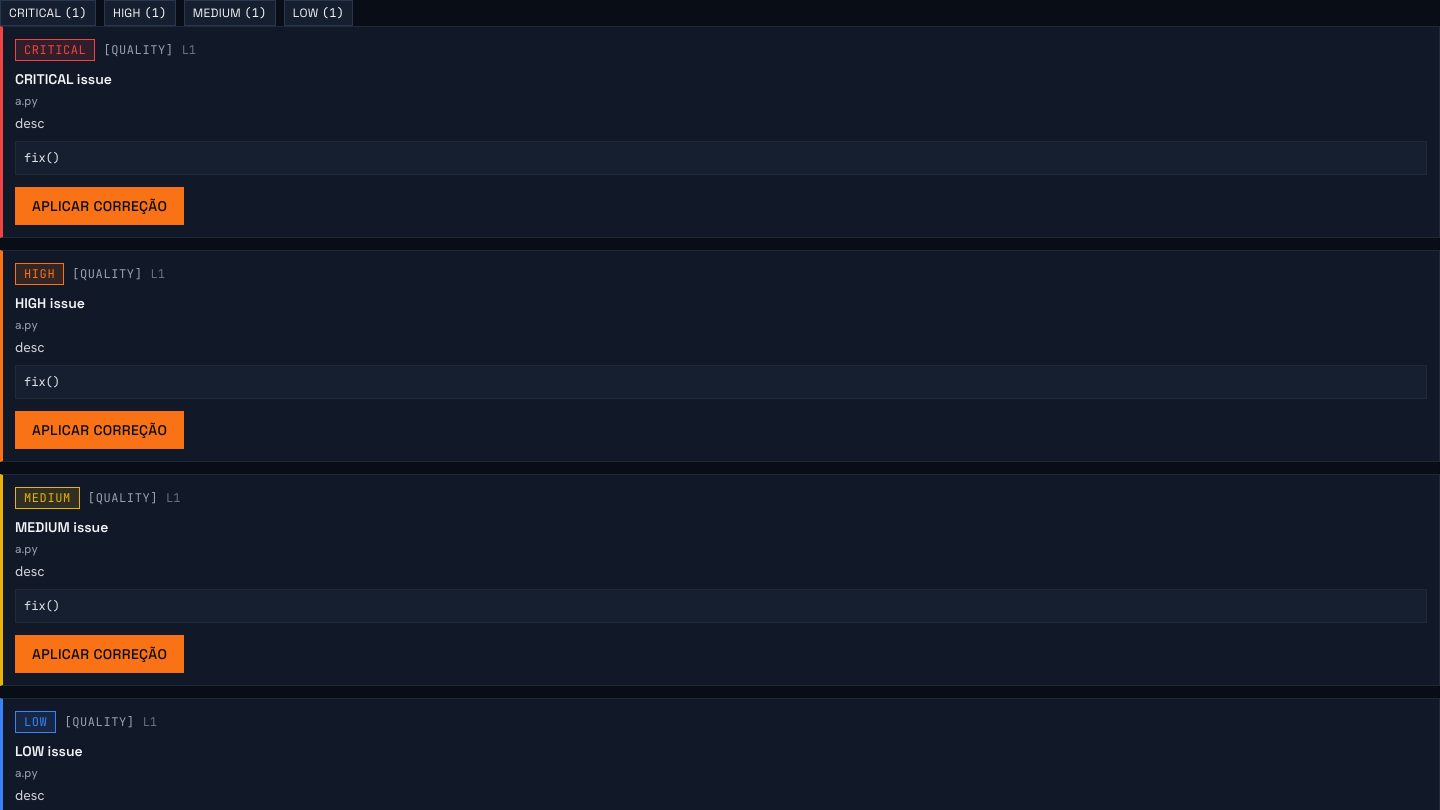
AlertPanel › CT06: hide LOW+MEDIUM leaves CRITICAL/HIGH; reactivate MEDIUM restores
This screenshot has width=1440, height=810.
Click the button "LOW (1)" at [319, 13], box [284, 0, 353, 26]
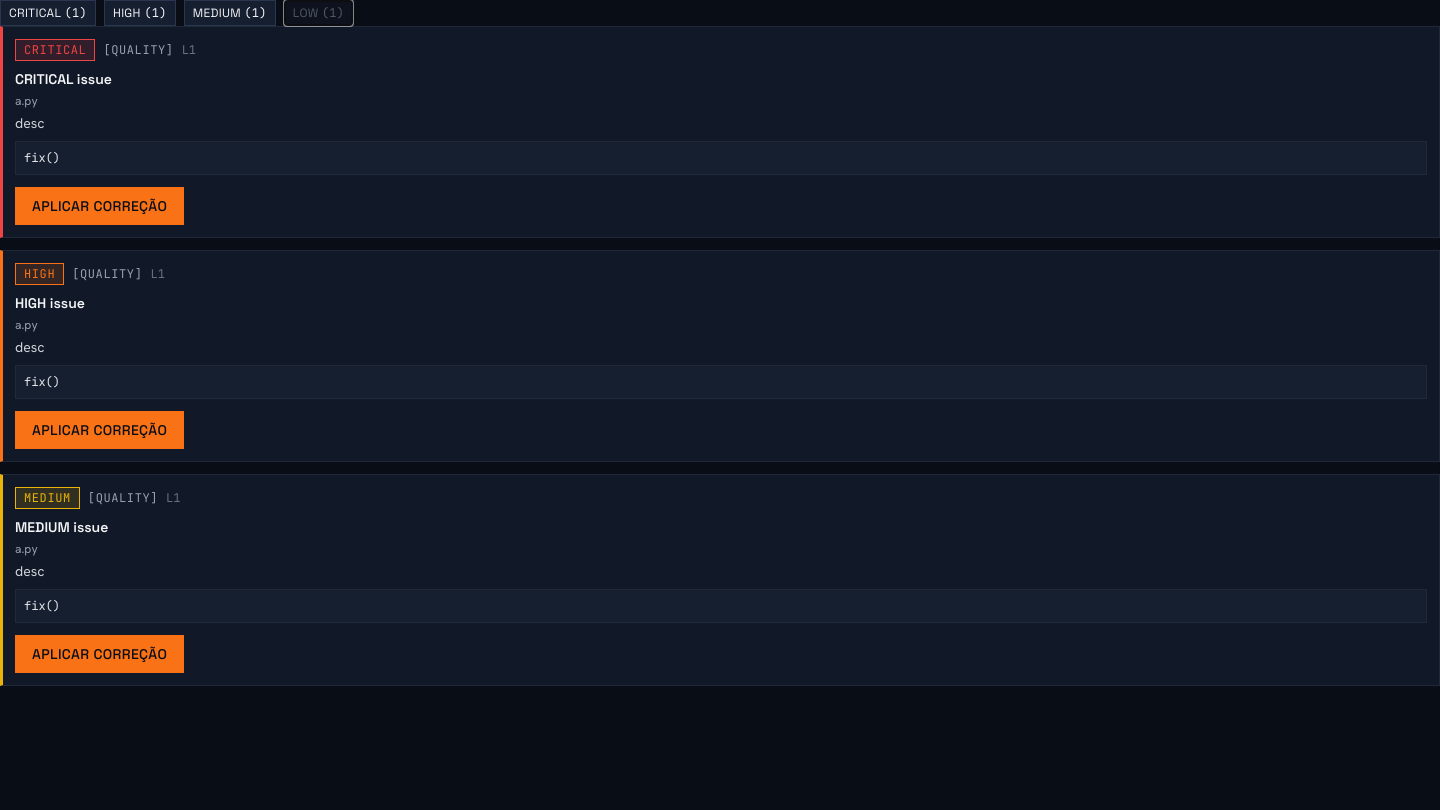
Click the button "MEDIUM (1)" at [230, 13], box [184, 0, 276, 26]
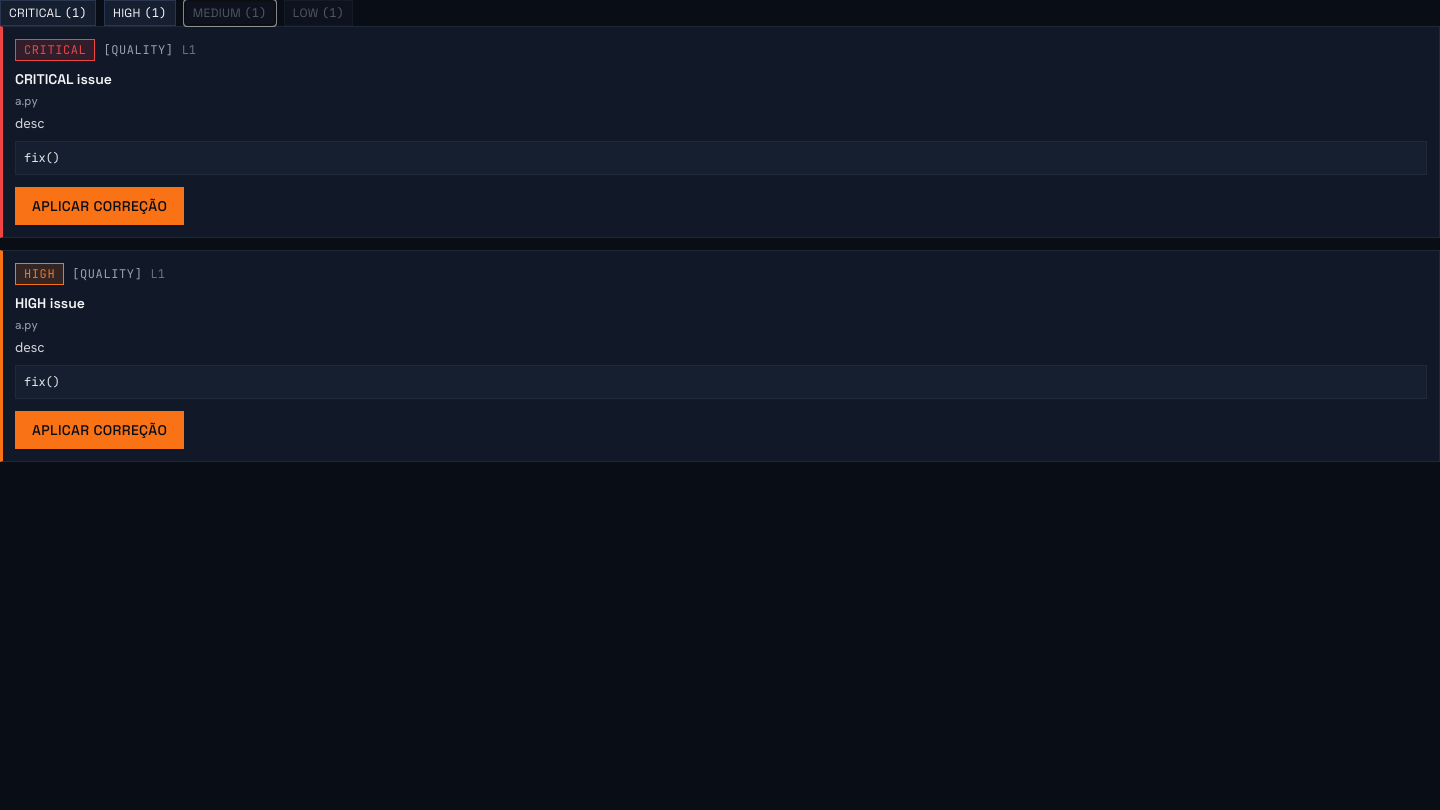
expect the number of elements with test id "alert-card" is 2: met, box [0, 26, 1439, 238]; [0, 250, 1439, 462]
Click the button "MEDIUM (1)" at [230, 13], box [184, 0, 276, 26]
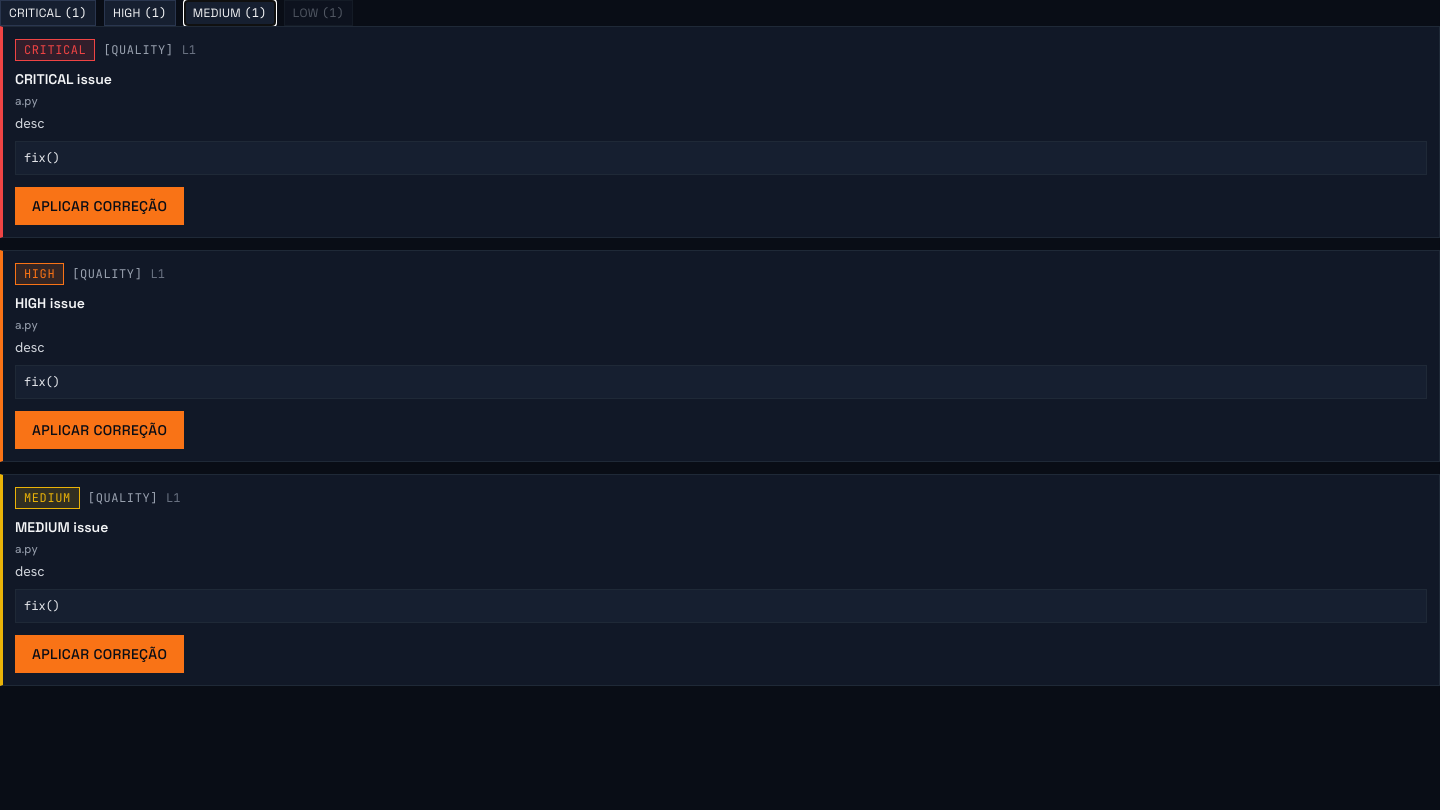
expect the number of elements with test id "alert-card" is 3: met, box [0, 26, 1439, 238]; [0, 250, 1439, 462]; [0, 474, 1439, 686]
